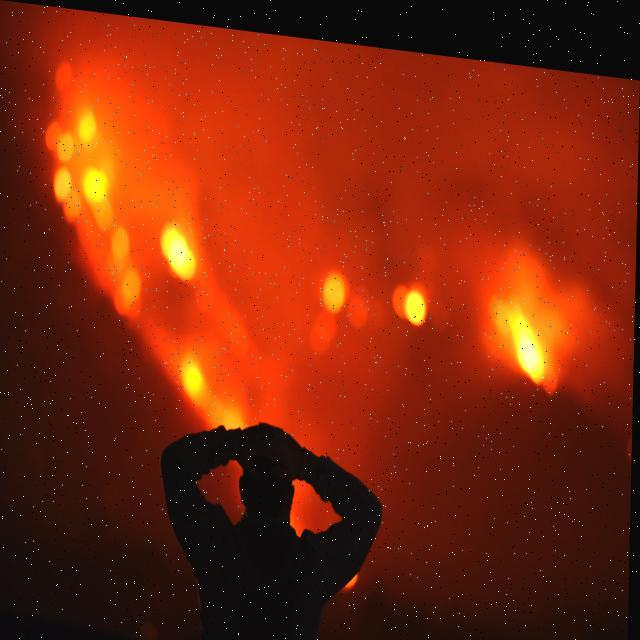Fire: (46, 61, 270, 430), (488, 234, 602, 390)
